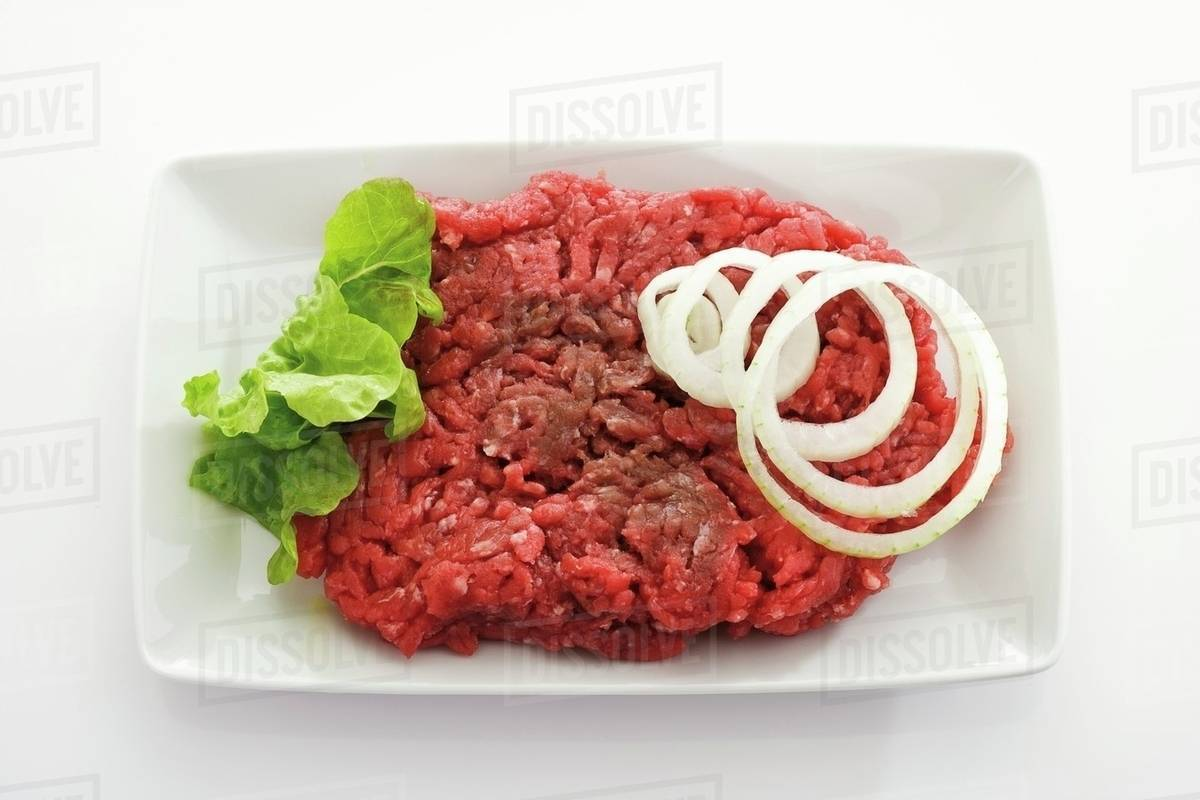ground_beef: (439, 194, 741, 630), (294, 426, 457, 652), (825, 313, 881, 402)
